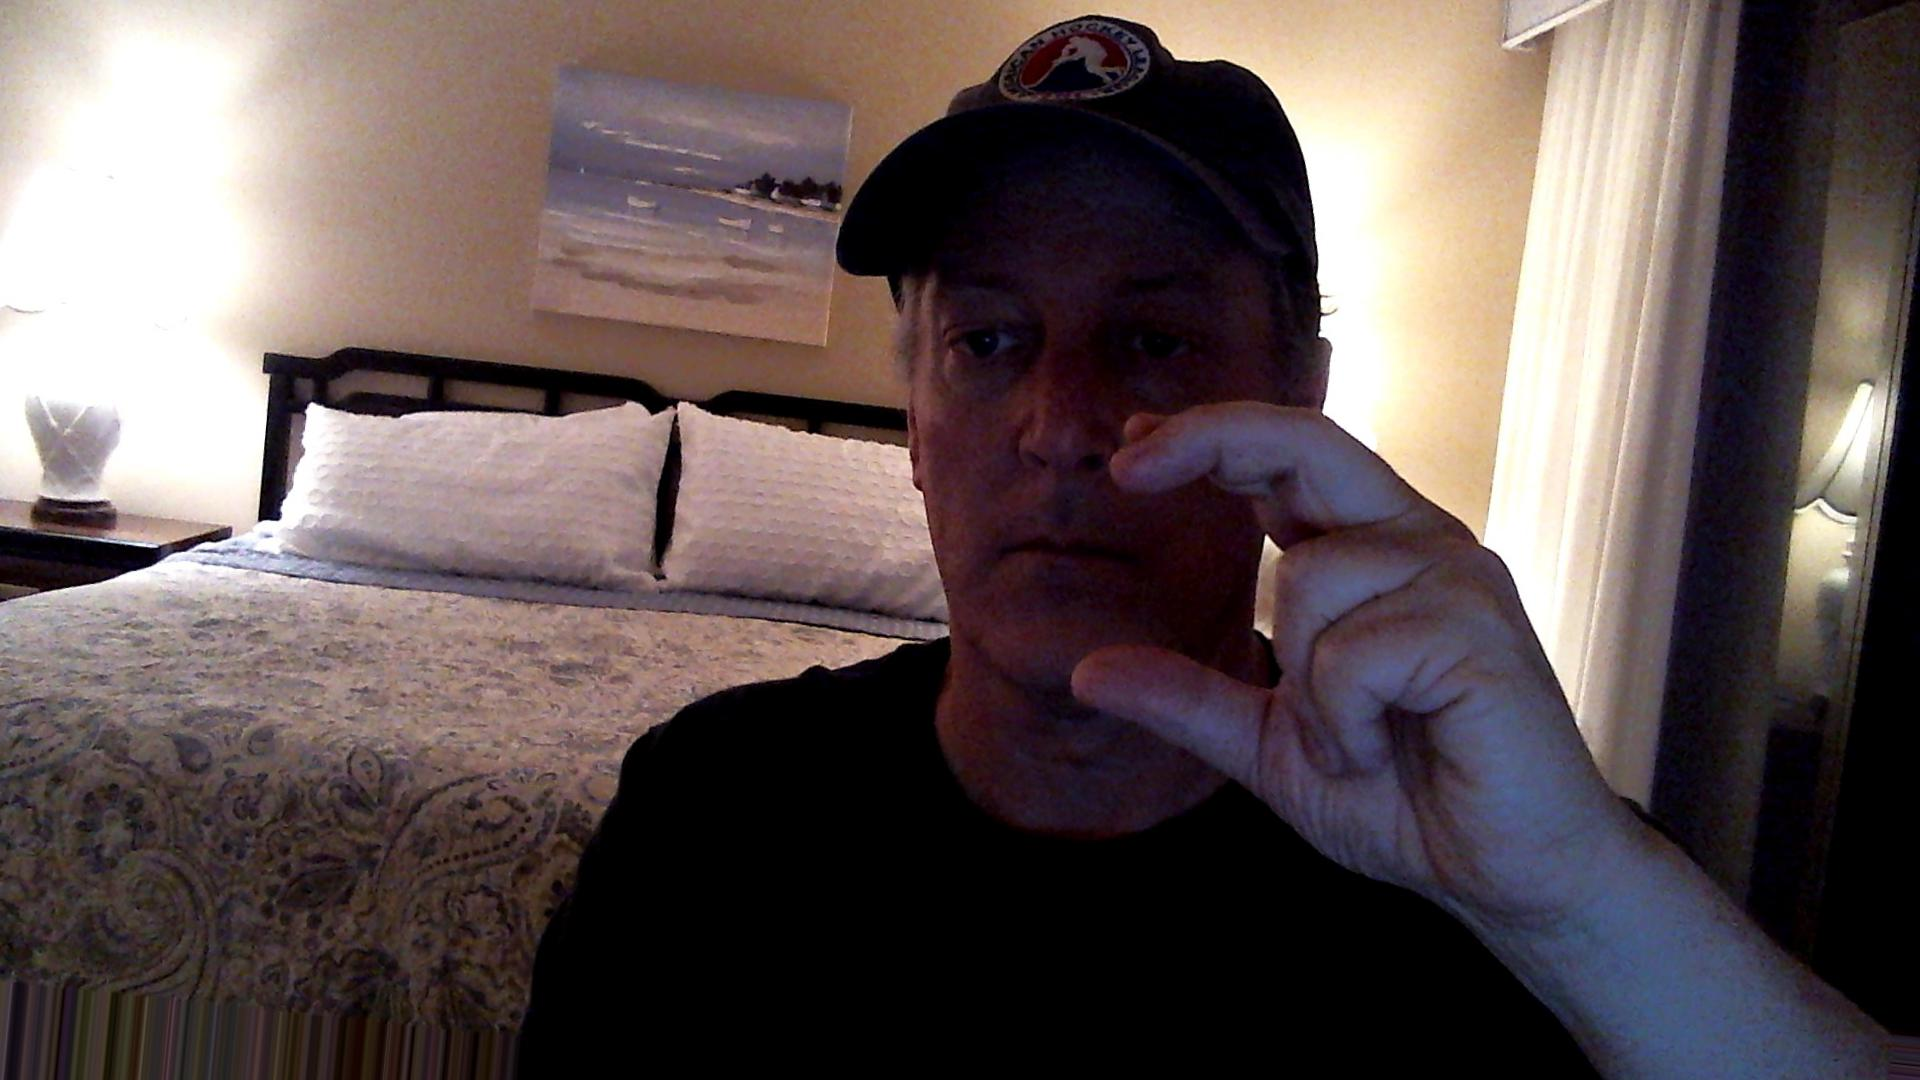No: (1055, 376, 1665, 922)
